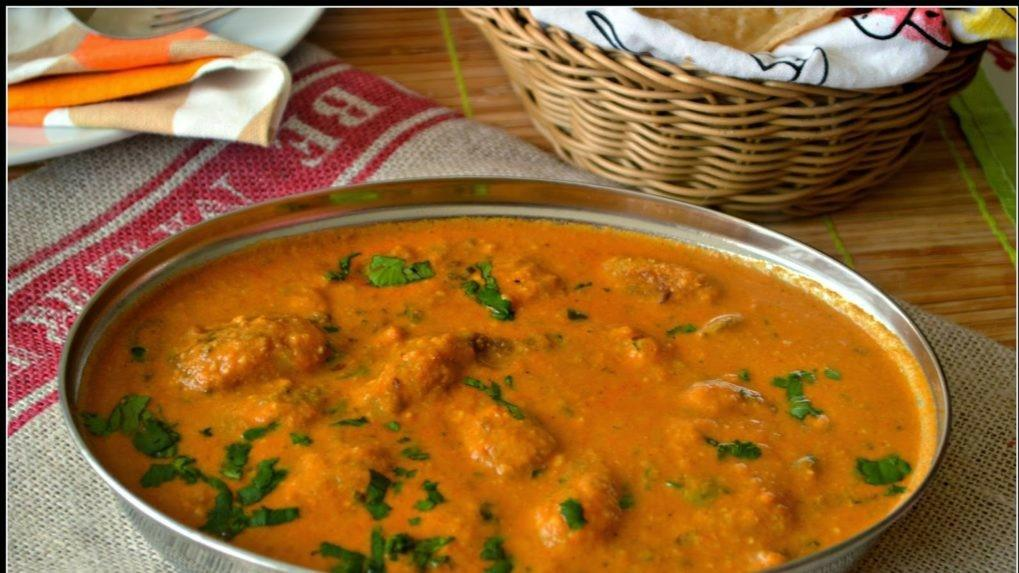DumAloo: (78, 219, 923, 573)
